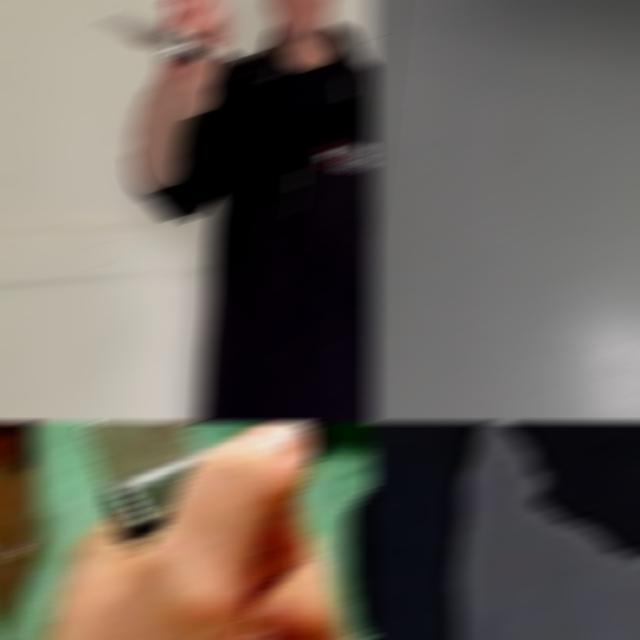Knife: (84, 423, 200, 540)
Knife_Handle: (96, 1, 234, 116)
